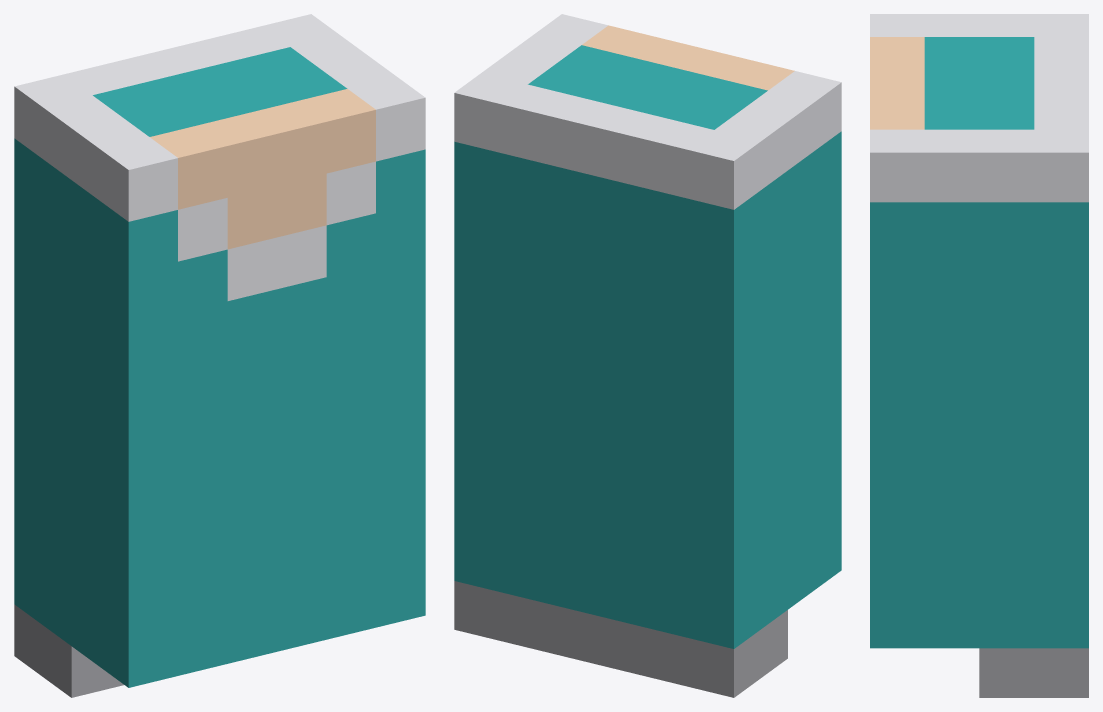
File: torso.obj
3 views of the same model, side by side, from view 1: azimuth 30°, elevation 25°; view 2: azimuth 150°, elevation 25°; view 3: azimuth 270°, elevation 25° (orthographic). The views are drawn at different scales.
Size of the model in its own units: 0.6 by 1.1 by 0.4.
Materials: 1 (1 with a texture image).
